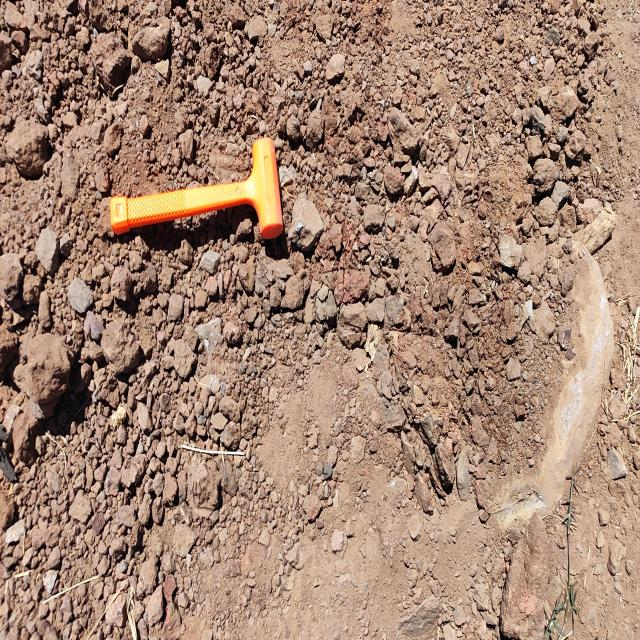Orange_hammer: (110, 135, 284, 241)
